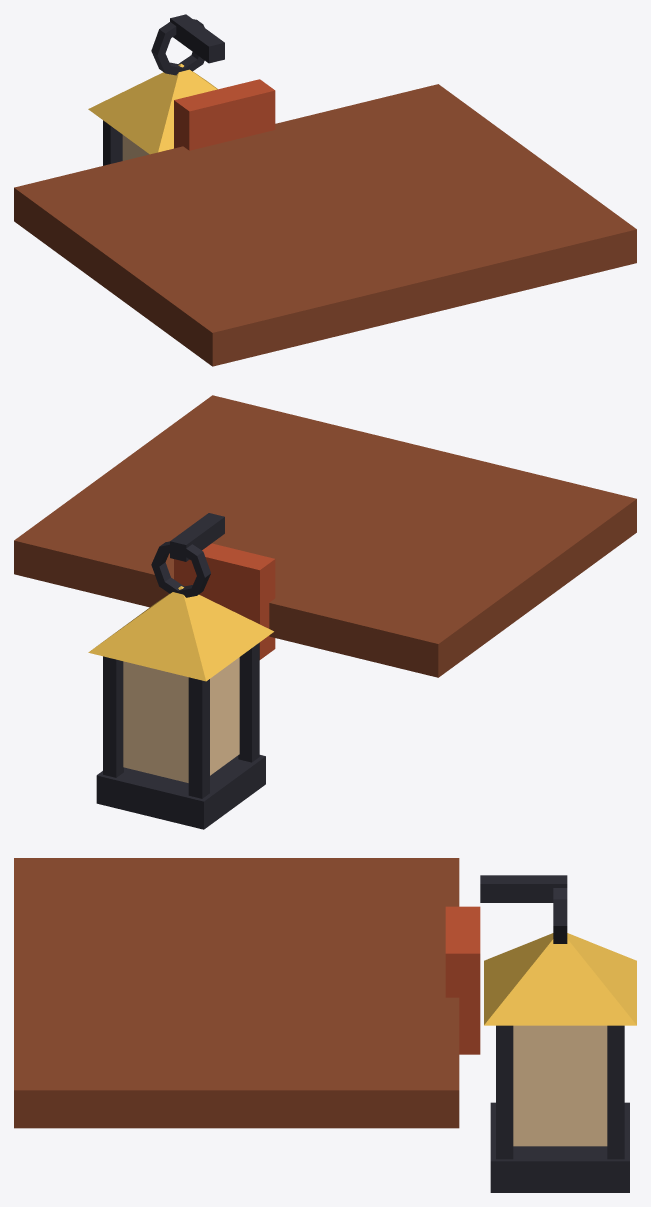
Rendered from CatCafe_Accessory_TinyLantern_Sit.glb.
3 views of the same model, one above another, from view 1: azimuth 30°, elevation 25°; view 2: azimuth 150°, elevation 25°; view 3: azimuth 270°, elevation 25° (orthographic). The views are drawn at different scales.
Parts seen in each view (by area): view 1: CatCafe_Accessory_TinyLantern_Sit; view 2: CatCafe_Accessory_TinyLantern_Sit; view 3: CatCafe_Accessory_TinyLantern_Sit.
Boxes of the visible parts, x1,y1,x2,y2 form: CatCafe_Accessory_TinyLantern_Sit: (14, 14, 636, 366); CatCafe_Accessory_TinyLantern_Sit: (14, 395, 636, 829); CatCafe_Accessory_TinyLantern_Sit: (14, 858, 636, 1192).
Size of the model in its own units: 0.7505 by 0.4275 by 0.8503.
Materials: 1 (1 with a texture image).
